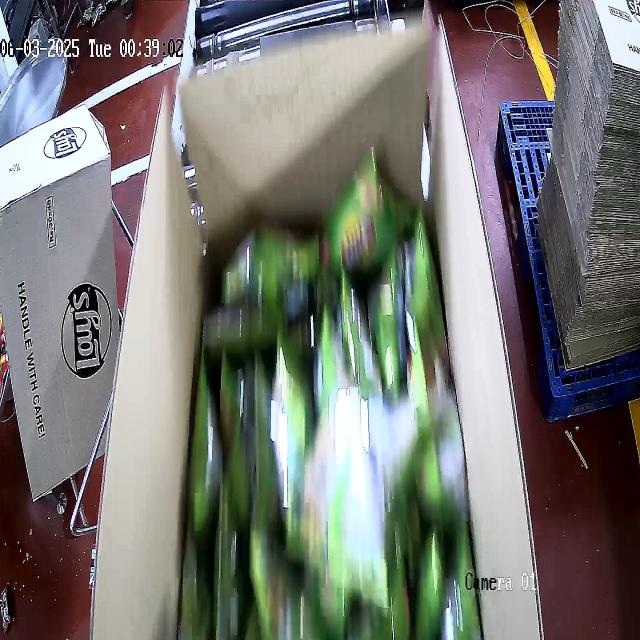YOGURT_HERB: (179, 146, 481, 638)
